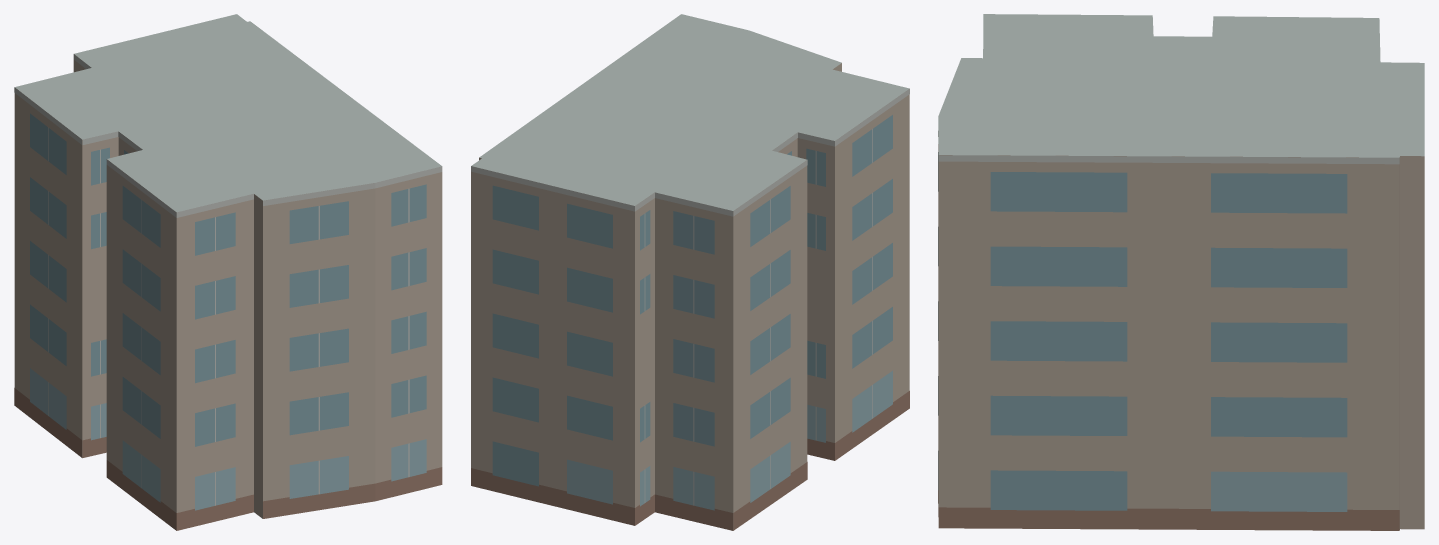
File: survey-upis-32661783.glb
3 views of the same model, side by side, from view 1: azimuth 30°, elevation 25°; view 2: azimuth 150°, elevation 25°; view 3: azimuth 270°, elevation 25° (orthographic). The views are drawn at different scales.
Visible parts, largest first — view 1: survey-upis-32661783.tmp; view 2: survey-upis-32661783.tmp; view 3: survey-upis-32661783.tmp.
Part boxes in pixels (left/top/right/bottom): survey-upis-32661783.tmp: left=14, top=14, right=442, bottom=530; survey-upis-32661783.tmp: left=471, top=14, right=909, bottom=530; survey-upis-32661783.tmp: left=938, top=14, right=1424, bottom=530.
Bounding box in the file's own units: 11.49 × 13.9 × 16.44.
